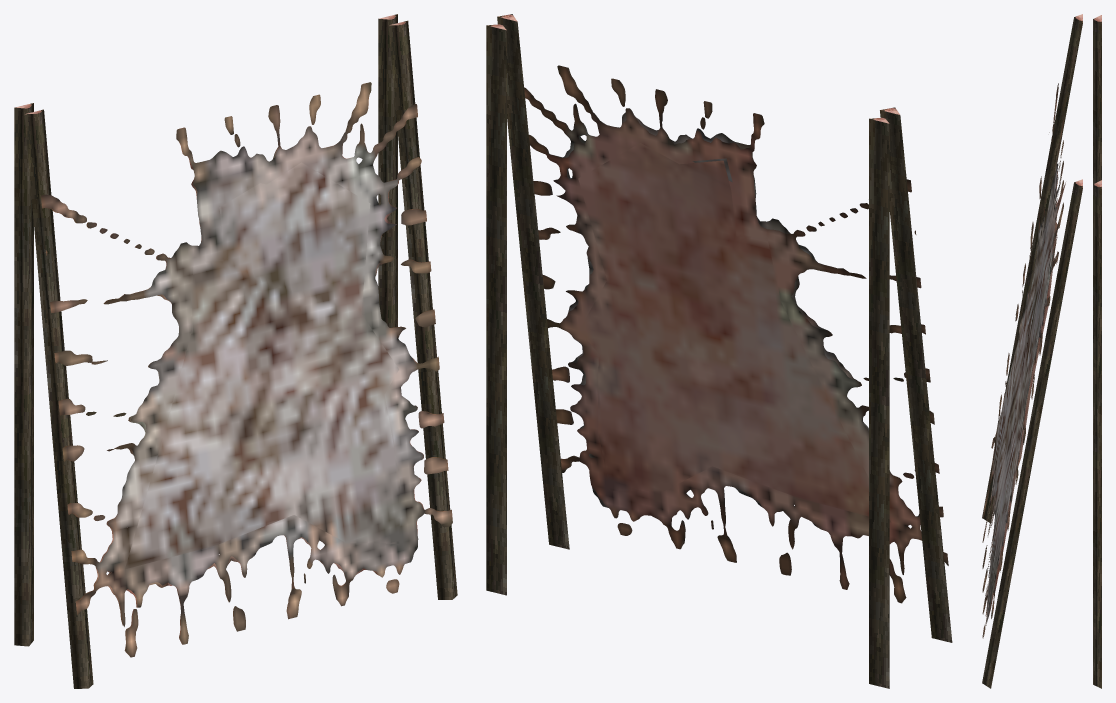
File: thm_dant_hide_tanning_s02_l4.fbx
3 views of the same model, side by side, from view 1: azimuth 30°, elevation 25°; view 2: azimuth 150°, elevation 25°; view 3: azimuth 270°, elevation 25° (orthographic). The views are drawn at different scales.
Visible parts, largest first — view 1: mesh_node; view 2: mesh_node; view 3: mesh_node.
Boxes of the visible parts, bbox=[...] form: mesh_node: bbox=[14, 14, 457, 688]; mesh_node: bbox=[486, 14, 952, 688]; mesh_node: bbox=[982, 14, 1101, 688].
Size of the model in its own units: 1.35 by 1.81 by 0.3916.
2 materials, 2 textured.
